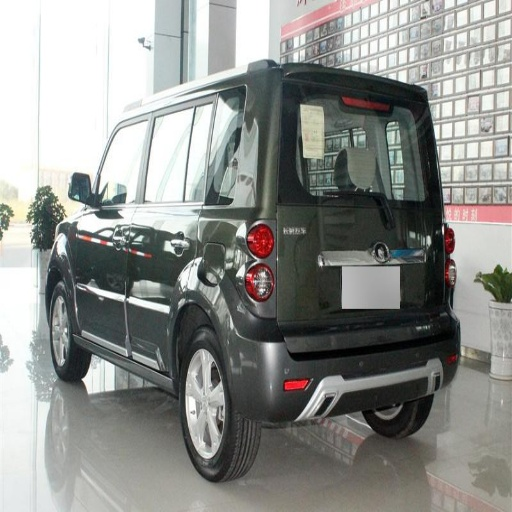back_bumper: (234, 310, 458, 423)
back_glass: (277, 115, 380, 198)
back_left_door: (127, 105, 211, 371)
tailgate: (327, 97, 418, 178)
trunk: (268, 199, 439, 351)
